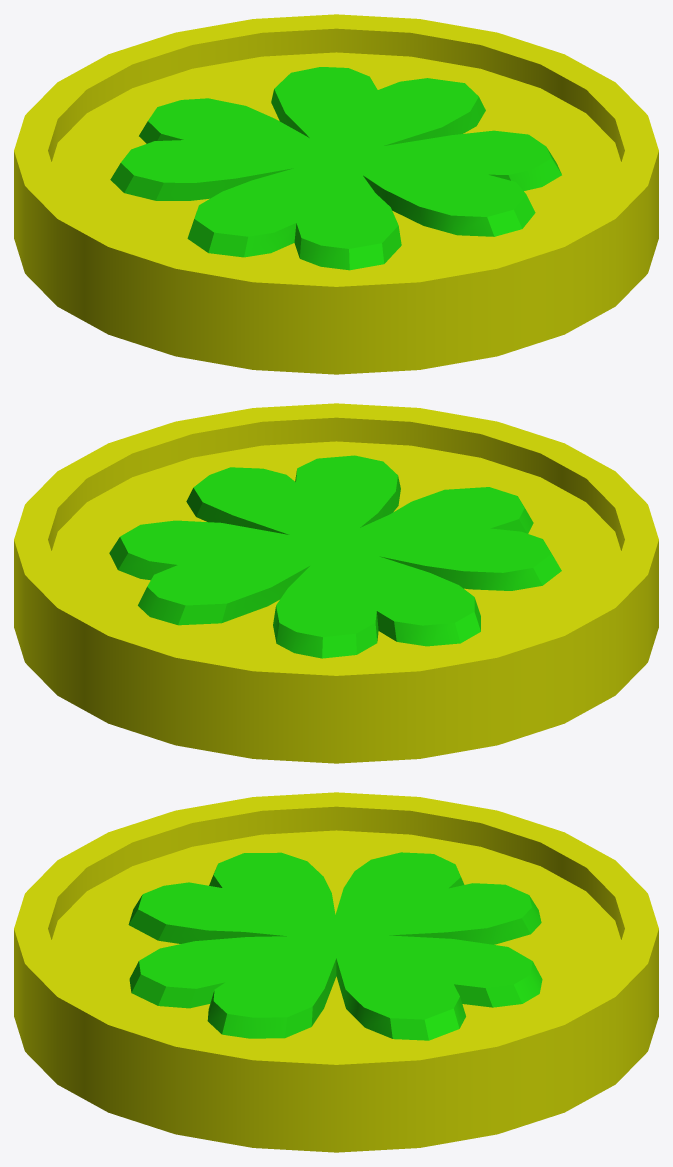
The model's file is Clover_Coin.fbx.
The picture shows the model from 3 angles, top to bottom: view 1: azimuth 30°, elevation 25°; view 2: azimuth 150°, elevation 25°; view 3: azimuth 270°, elevation 25°; orthographic projection.
Parts seen in each view (by area): view 1: Clover_Coin; view 2: Clover_Coin; view 3: Clover_Coin.
Boxes of the visible parts, <box> form: Clover_Coin: <box>14,14,658,374</box>; Clover_Coin: <box>14,403,658,763</box>; Clover_Coin: <box>14,792,658,1152</box>.
Bounding box in the file's own units: 20 × 3 × 20.
